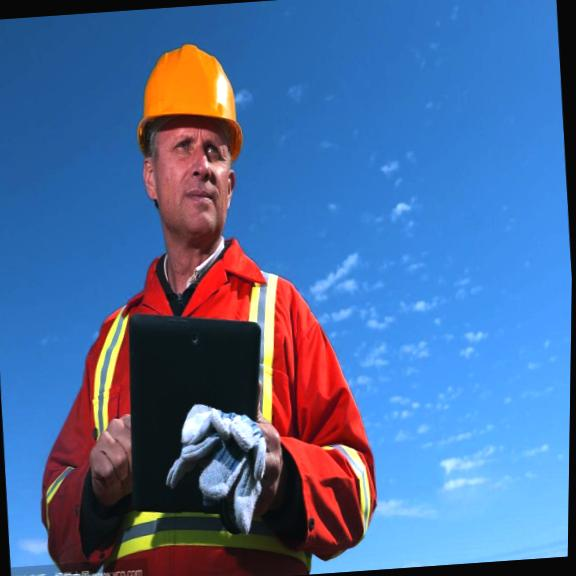safety_vest: (18, 230, 392, 576)
